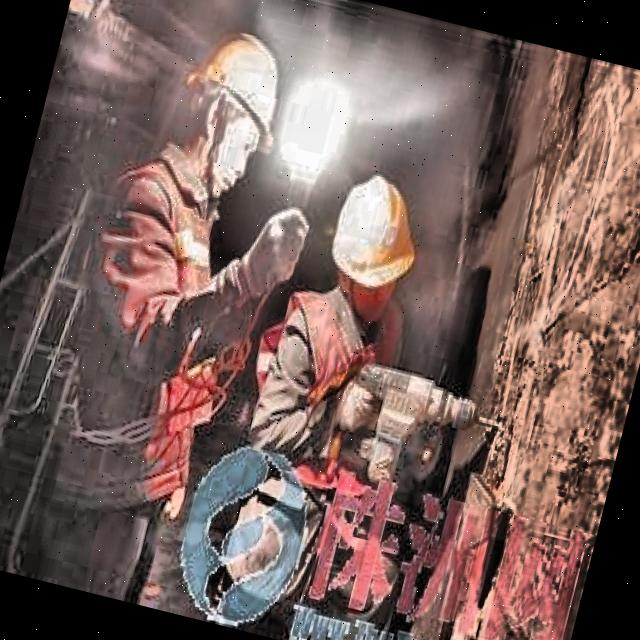helmet: (155, 17, 300, 220), (308, 164, 434, 342)
